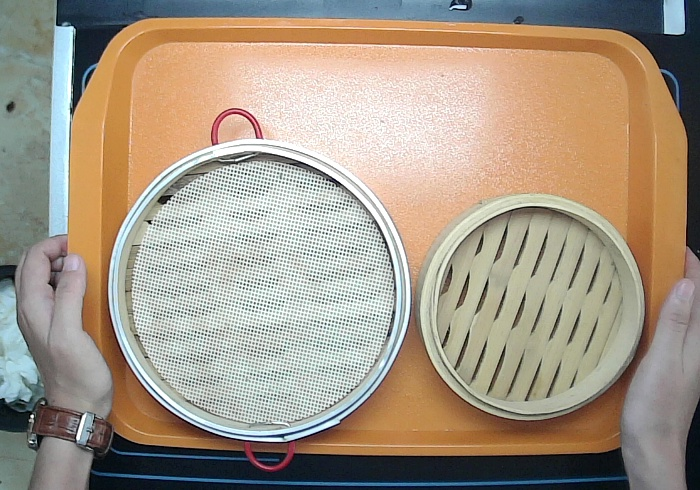ZNLD-Da_Zheng_Long: (106, 108, 412, 474)
ZNLD-Xiao_Zheng_Long: (416, 193, 646, 423)
